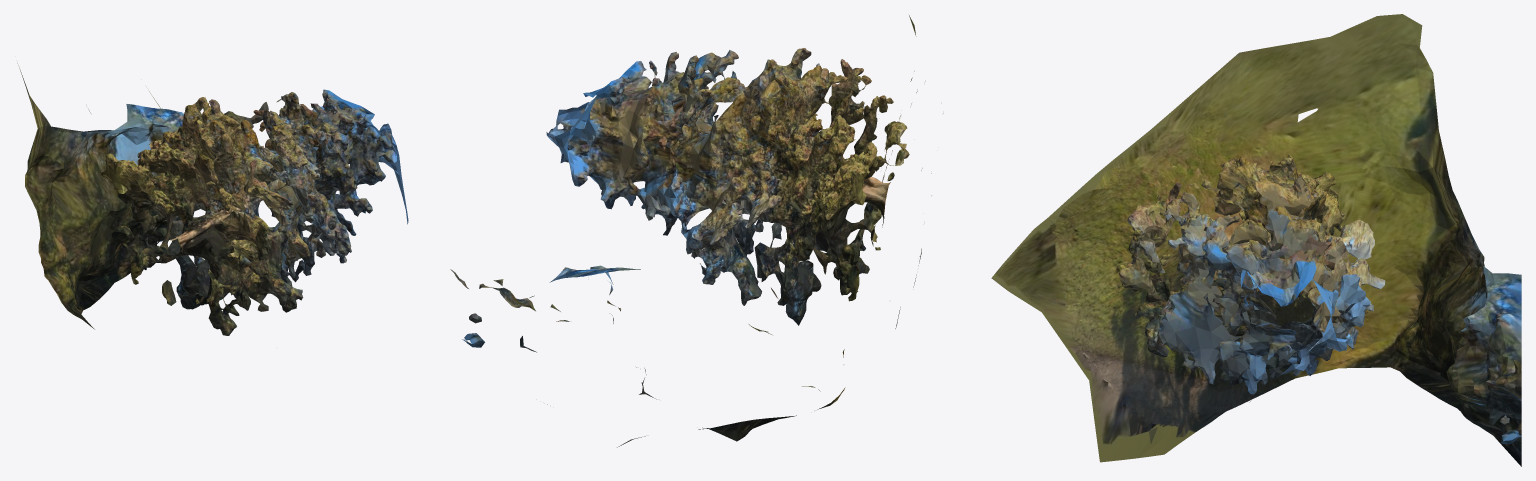
File: liamTreeDraco.glb
3 views of the same model, side by side, from view 1: azimuth 30°, elevation 25°; view 2: azimuth 150°, elevation 25°; view 3: azimuth 270°, elevation 25° (orthographic). The views are drawn at different scales.
Size of the model in its own units: 1.45 by 1.62 by 1.97.
1 material, 1 textured.
